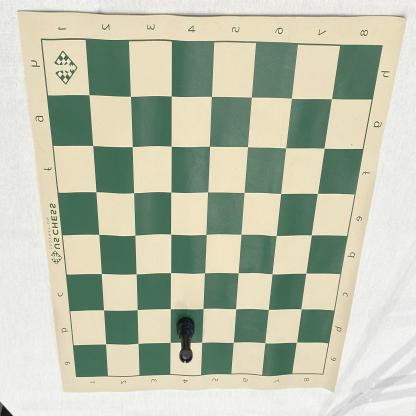black-rook: (176, 316, 194, 364)
